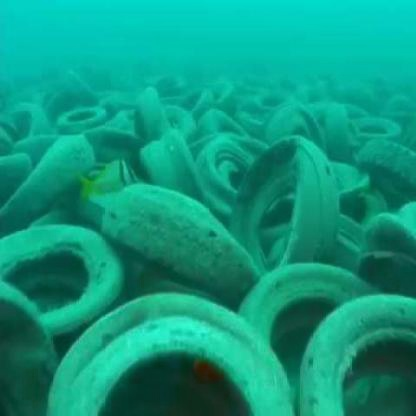tire: (36, 292, 286, 416), (110, 179, 249, 298), (287, 291, 416, 416), (228, 139, 341, 276), (1, 215, 123, 341), (236, 256, 348, 354), (2, 282, 65, 416), (7, 135, 102, 216), (194, 136, 254, 212), (144, 133, 217, 192), (359, 207, 416, 277), (349, 133, 416, 180), (4, 90, 58, 145), (128, 89, 182, 134), (349, 106, 399, 144), (61, 93, 105, 130), (267, 98, 308, 136), (250, 87, 301, 112)
